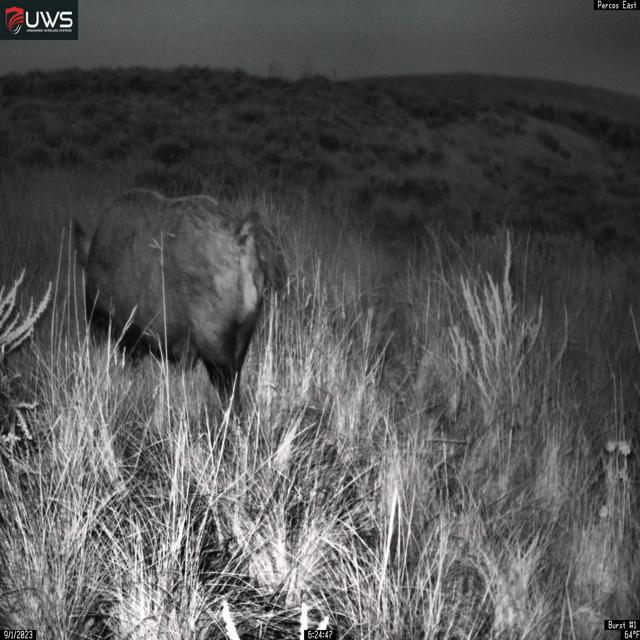pig: (71, 187, 284, 422)
